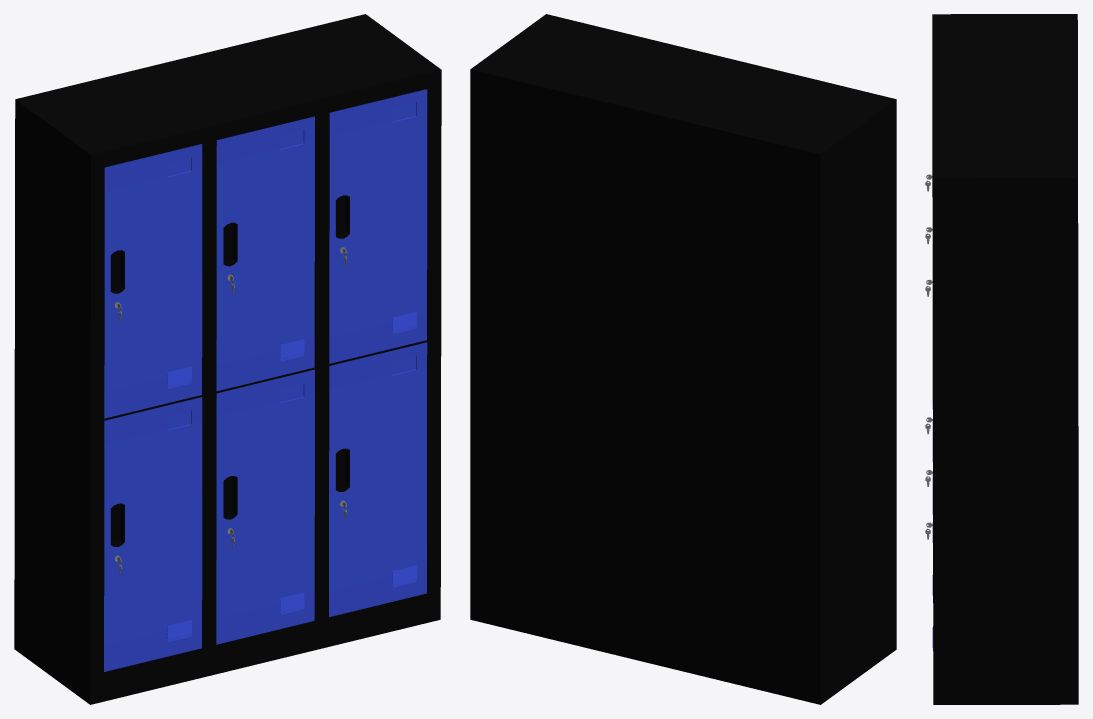
File: Prop_MultiLocker_Blue.fbx
The picture shows the model from 3 angles, left to right: view 1: azimuth 30°, elevation 25°; view 2: azimuth 150°, elevation 25°; view 3: azimuth 270°, elevation 25°; orthographic projection. The views are drawn at different scales.
Visible parts, largest first — view 1: Locker; view 2: Locker; view 3: Locker.
Part boxes in pixels (left/top/right/bottom): Locker: left=14, top=14, right=441, bottom=704; Locker: left=470, top=14, right=896, bottom=704; Locker: left=925, top=14, right=1078, bottom=704.
Bounding box in the file's own units: 200 × 300 × 79.12.
